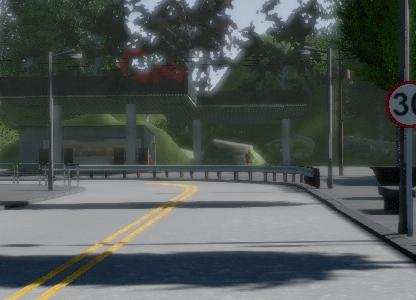Speed_30: (383, 79, 416, 132)
